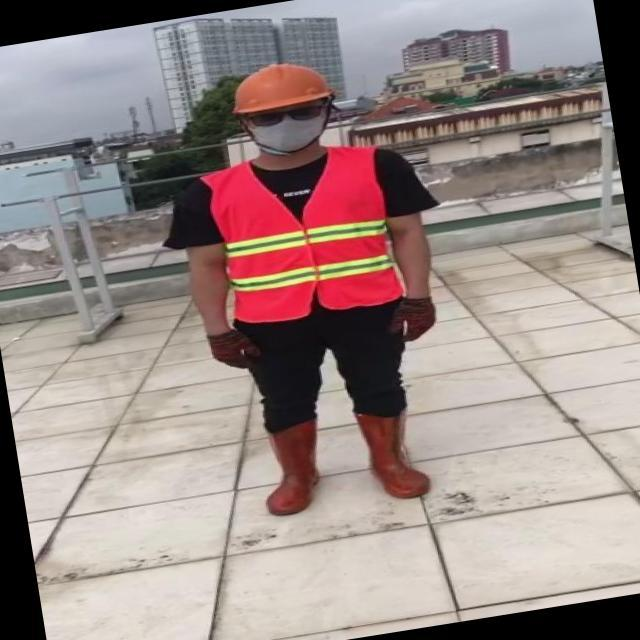Gloves: (203, 321, 269, 376), (384, 296, 444, 346)
Helmet: (228, 54, 338, 119)
Human: (161, 41, 472, 530)
Safety Boot: (353, 404, 433, 505), (257, 420, 329, 518)
Safety Vest: (203, 140, 408, 327)
